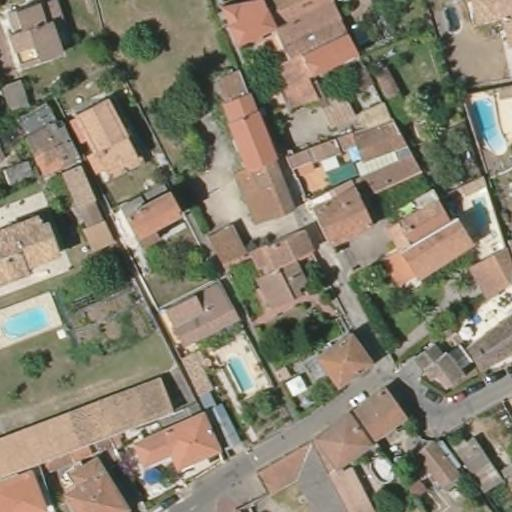pool: (469, 94, 508, 156), (0, 301, 48, 339), (455, 196, 494, 240), (219, 352, 255, 392), (140, 461, 165, 488)
